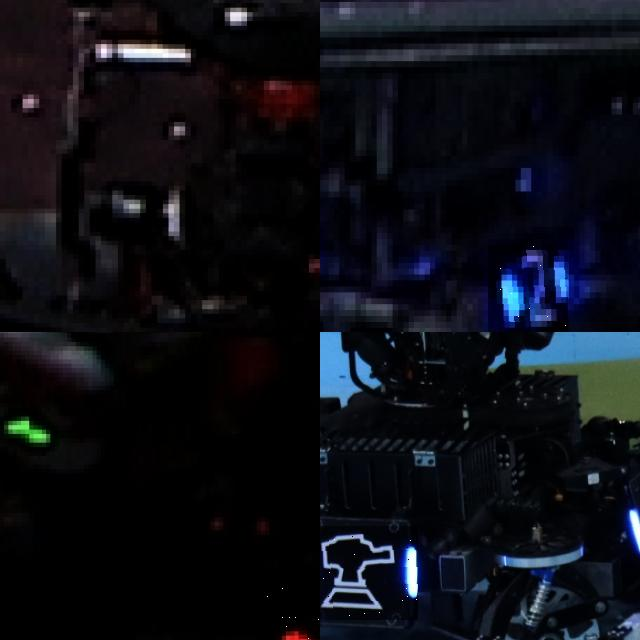B2: (488, 245, 568, 332)
Bs: (320, 526, 418, 620), (626, 476, 640, 568)
